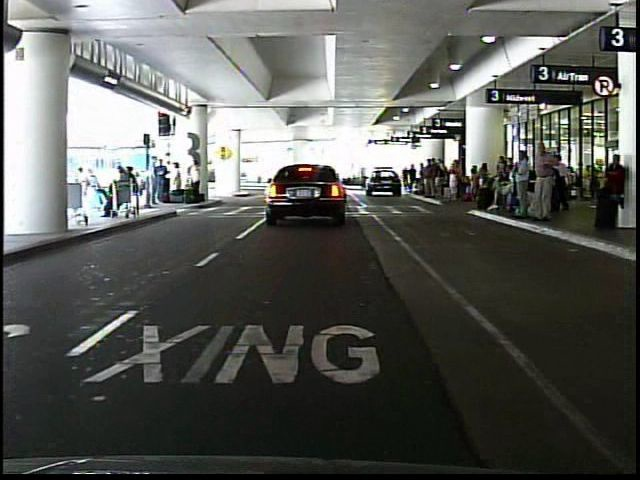person: (527, 136, 562, 228), (594, 151, 625, 230), (512, 147, 531, 223), (79, 159, 102, 216), (155, 156, 170, 204), (188, 158, 202, 202), (171, 160, 185, 203), (402, 165, 411, 191)
